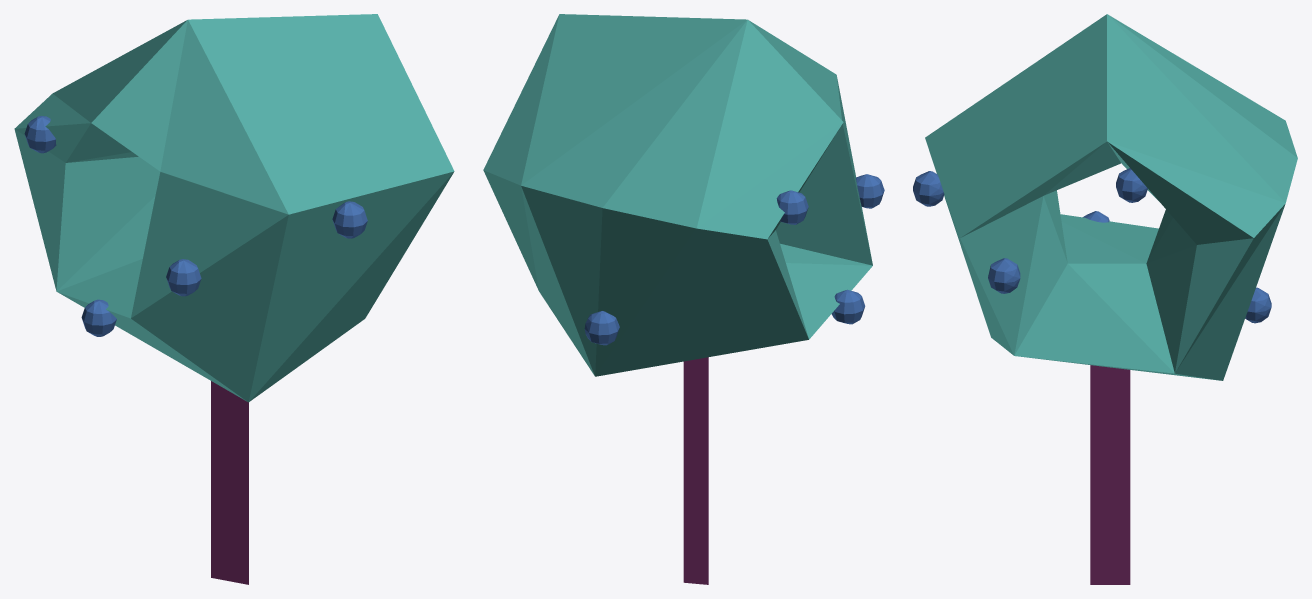
The model's file is pentagon_tree.fbx.
The picture shows the model from 3 angles, left to right: view 1: azimuth 30°, elevation 25°; view 2: azimuth 150°, elevation 25°; view 3: azimuth 270°, elevation 25°; orthographic projection. The views are drawn at different scales.
Visible parts, largest first — view 1: pSphere30; view 2: pSphere30; view 3: pSphere30.
Boxes of the visible parts, x1=… form: pSphere30: x1=14, y1=14, x2=454, y2=584; pSphere30: x1=483, y1=14, x2=884, y2=584; pSphere30: x1=913, y1=14, x2=1297, y2=584.
Size of the model in its own units: 15.79 by 28.75 by 18.35.
